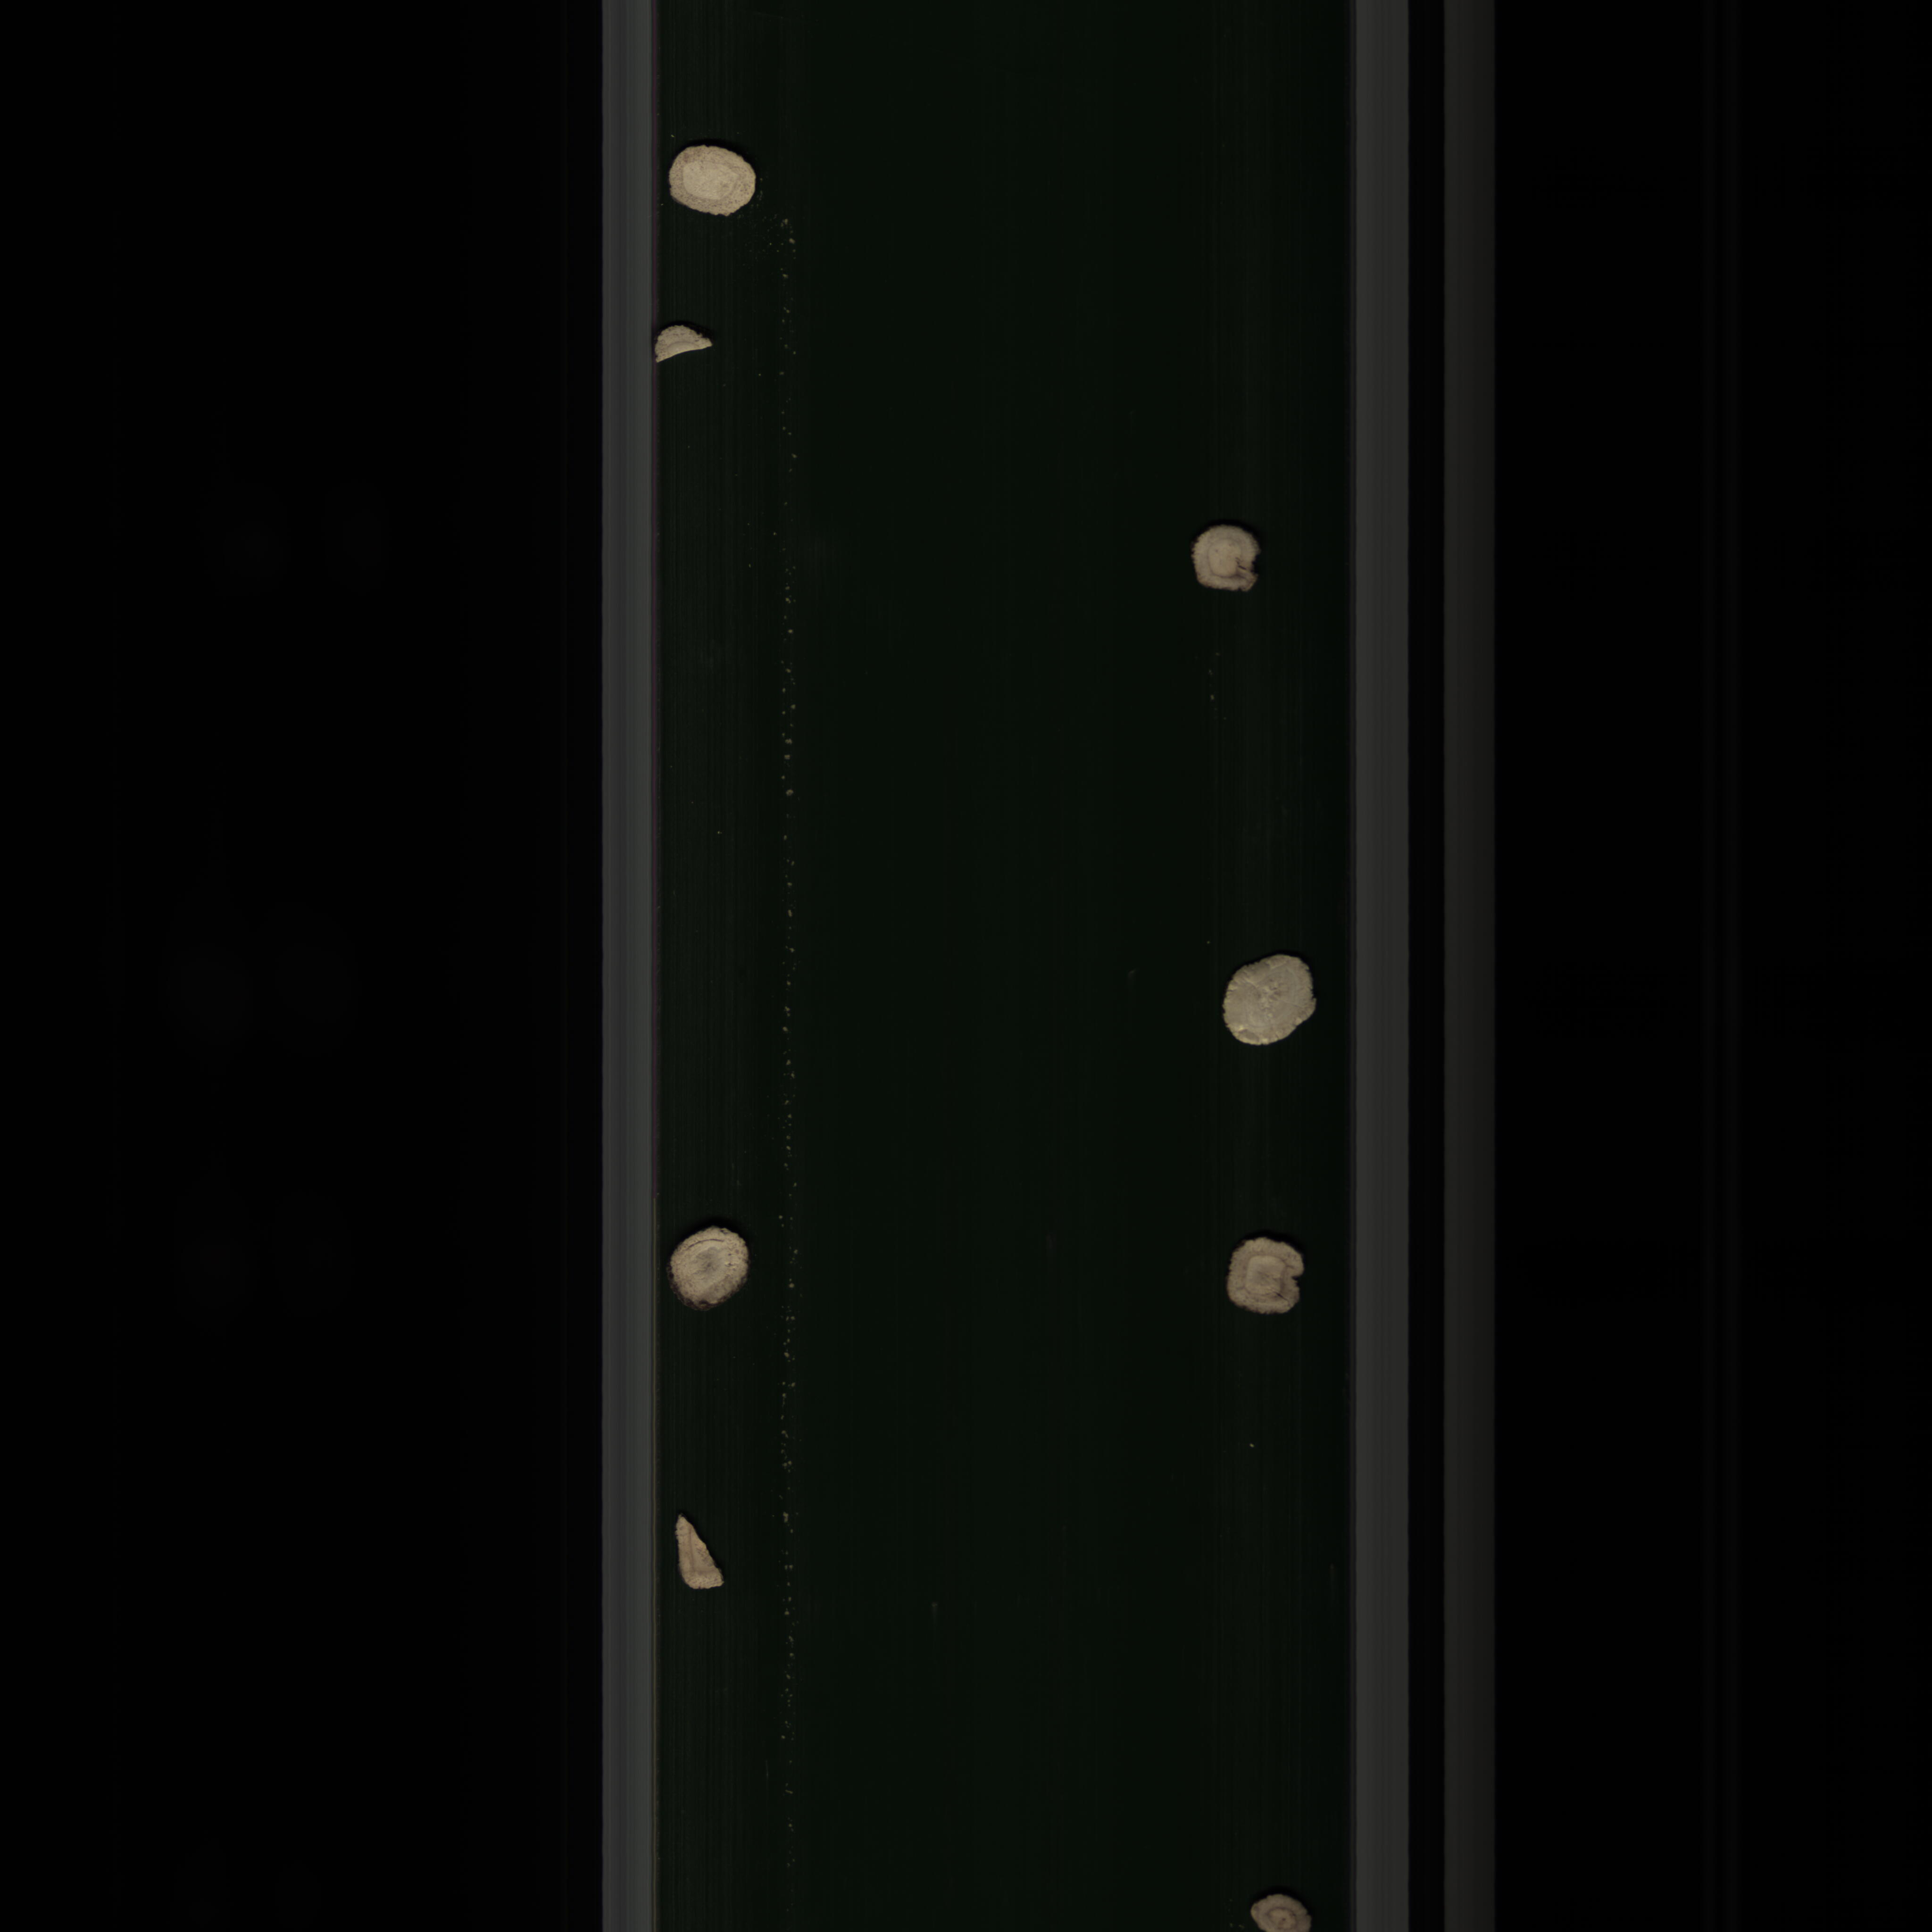debris: (663, 1500, 732, 1603), (648, 320, 727, 368)
moldy: (1177, 513, 1270, 605)
